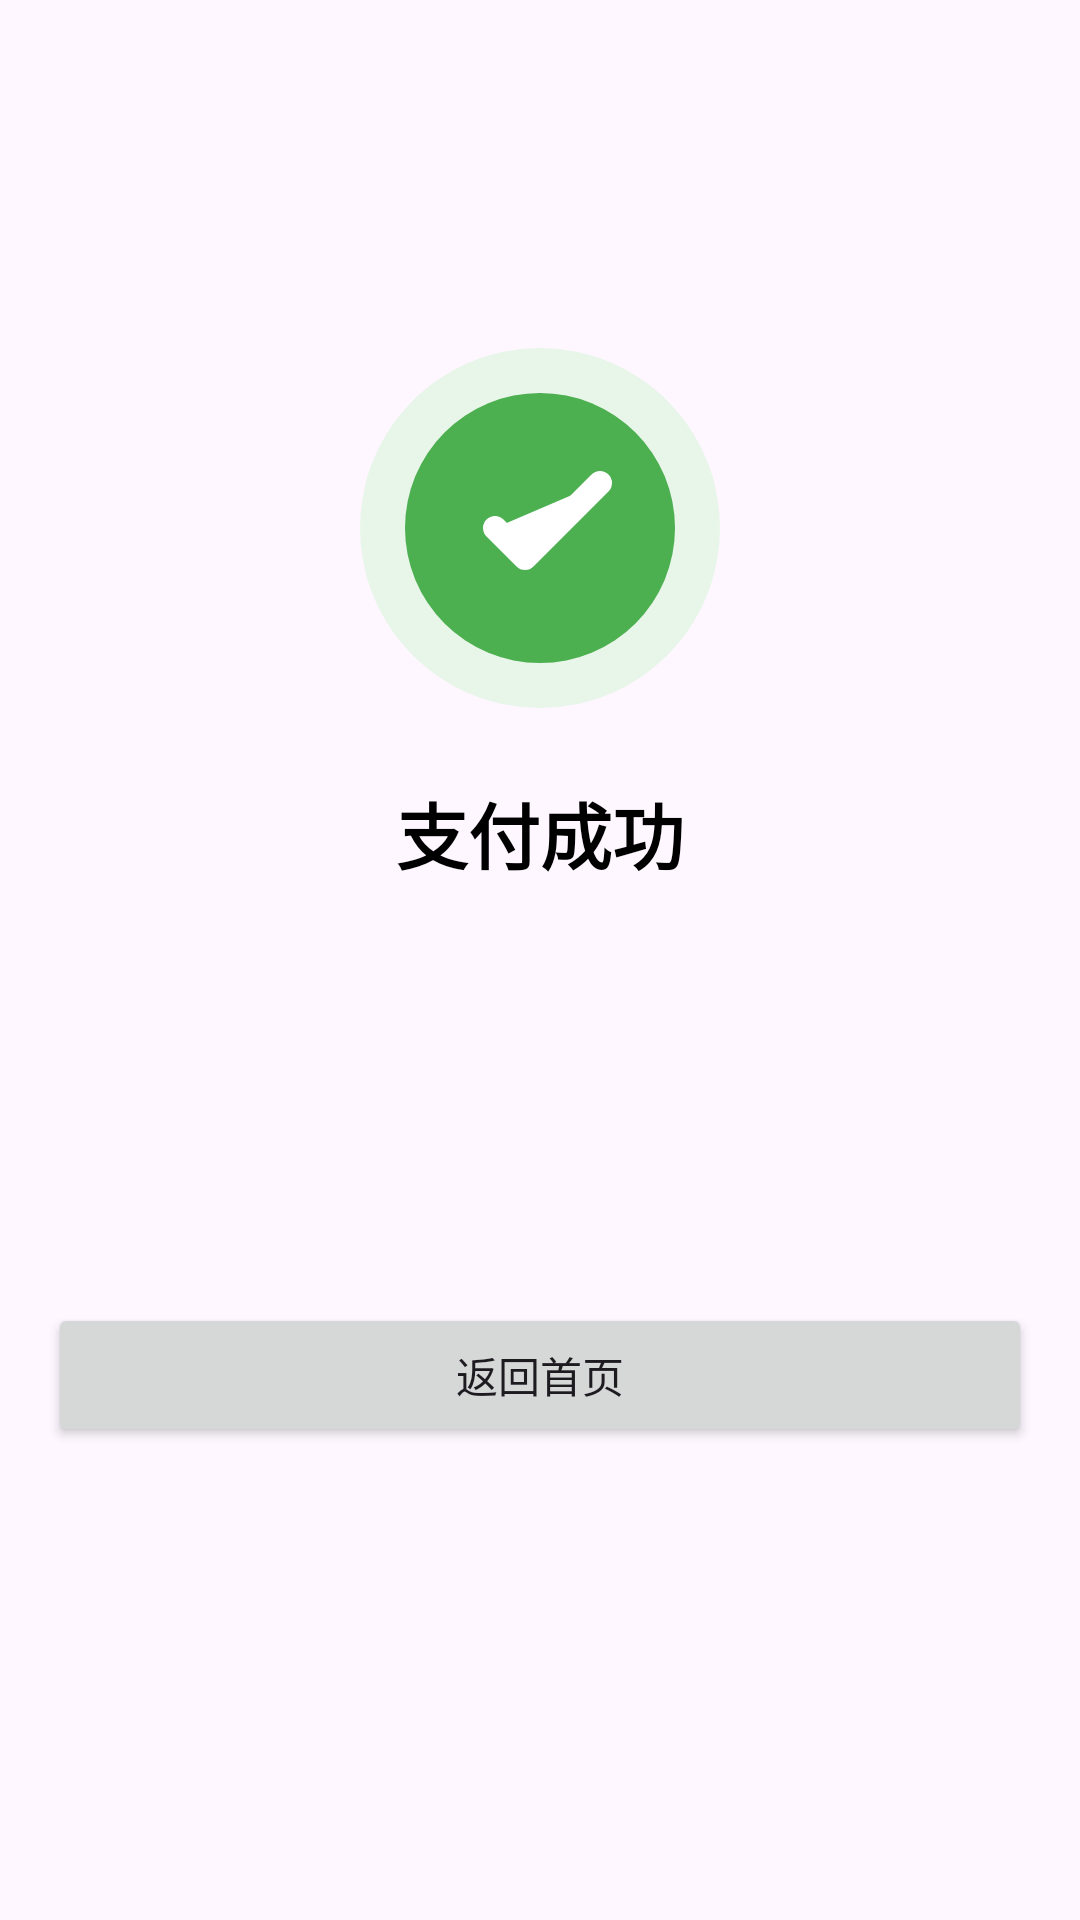

Icons on this 1080px×1920px Android screen, each with its box as [x1,y1,x2,y2]:
payment success: [405,393,675,663]
